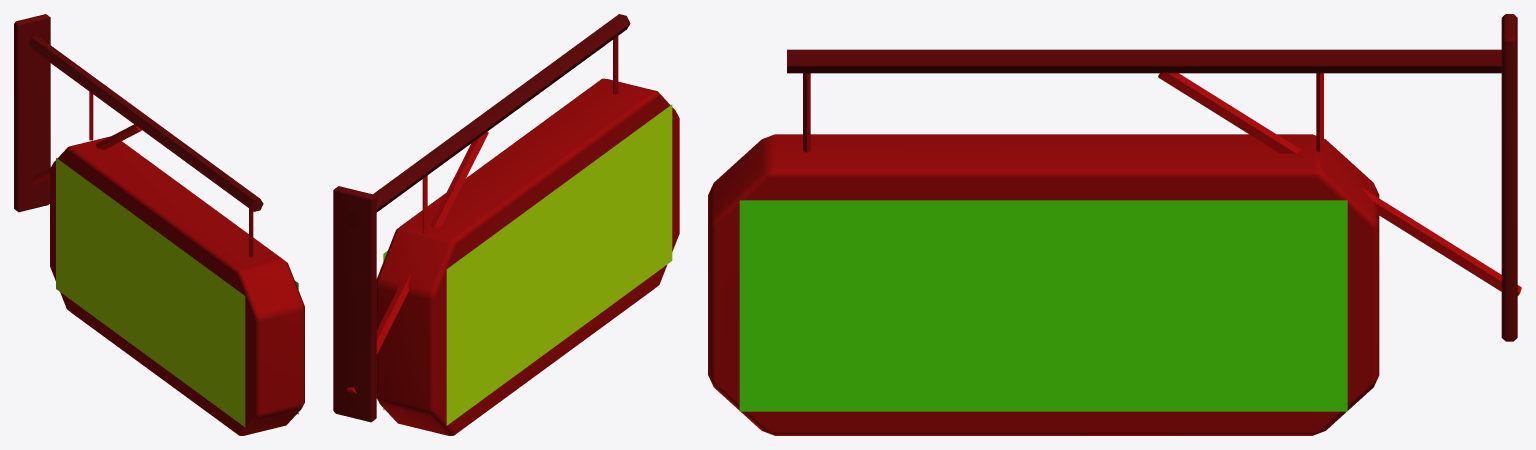
The model's file is sign_box_b.glb.
The picture shows the model from 3 angles, left to right: view 1: azimuth 30°, elevation 25°; view 2: azimuth 150°, elevation 25°; view 3: azimuth 270°, elevation 25°; orthographic projection. The views are drawn at different scales.
Visible parts, largest first — view 1: sign_box_b; view 2: sign_box_b; view 3: sign_box_b.
Part boxes in pixels (box(x1,y1,x2,y2)): sign_box_b: box(14, 14, 304, 435); sign_box_b: box(333, 14, 679, 435); sign_box_b: box(708, 14, 1521, 435).
Size of the model in its own units: 0.25 by 1.1 by 2.06.
